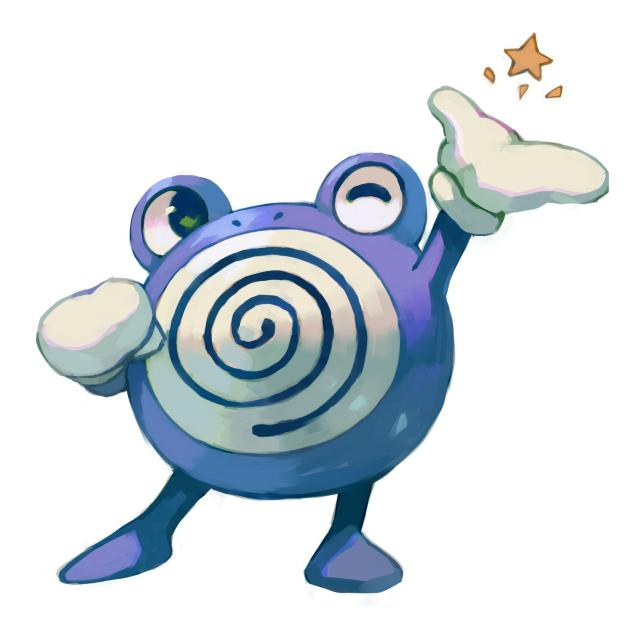Poliwhirl: (48, 160, 518, 598)
